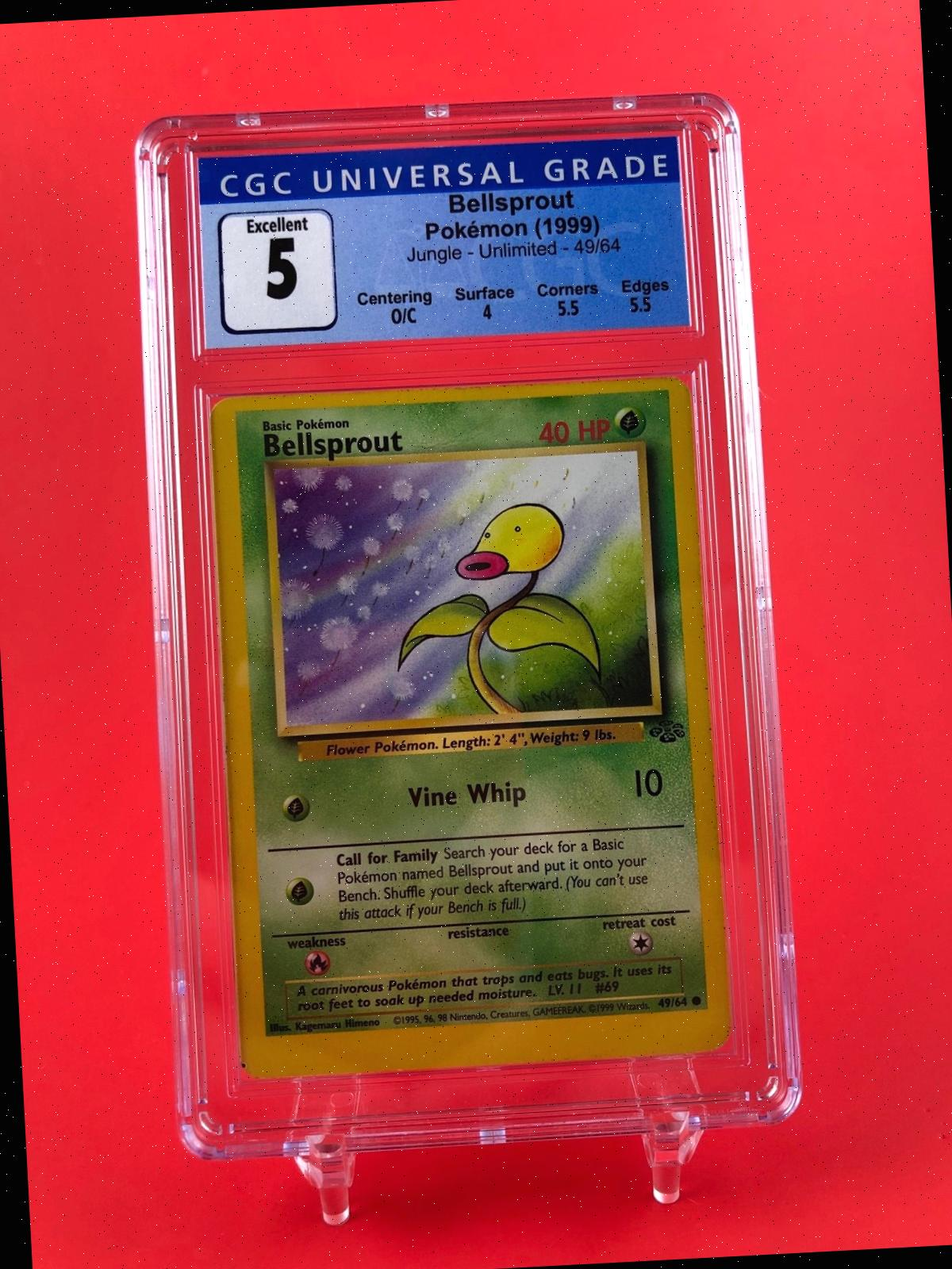card-2UtV: (210, 377, 731, 1079)
